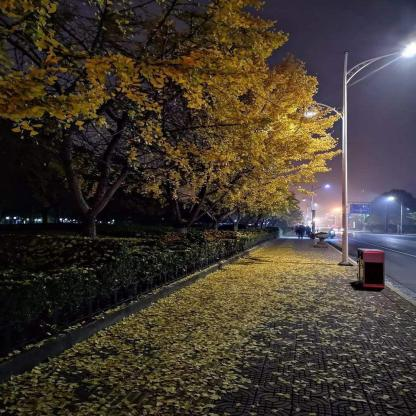other: (157, 48, 322, 204), (296, 199, 361, 235)
